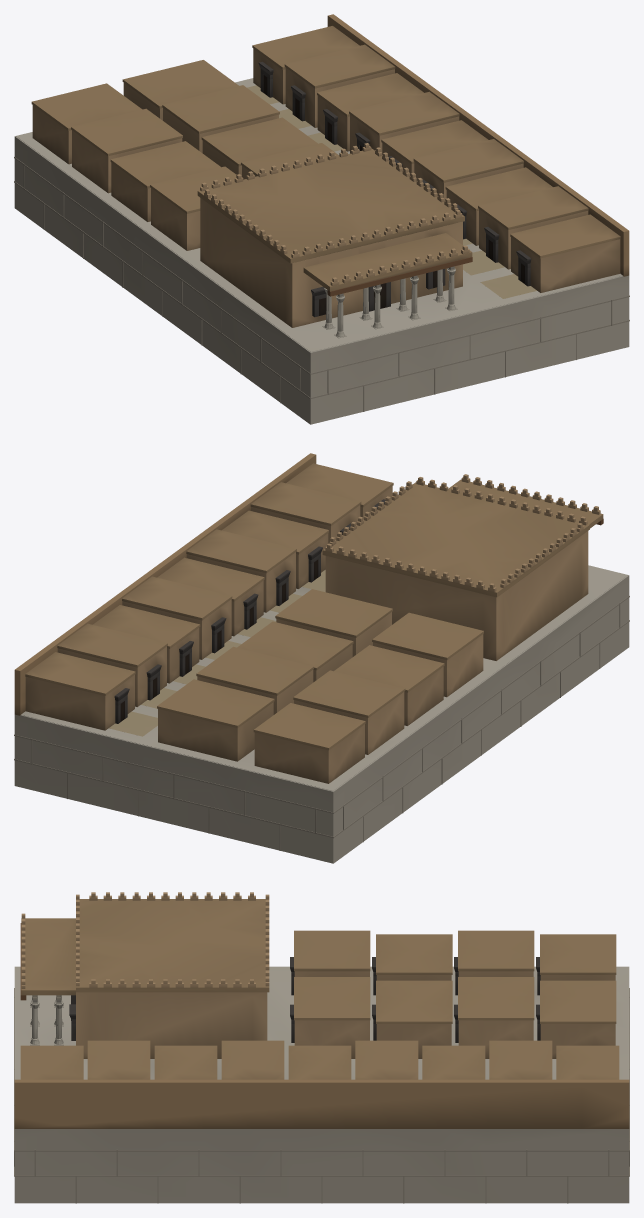
File: harem.glb
The picture shows the model from 3 angles, top to bottom: view 1: azimuth 30°, elevation 25°; view 2: azimuth 150°, elevation 25°; view 3: azimuth 270°, elevation 25°; orthographic projection. The views are drawn at different scales.
Parts seen in each view (by area): view 1: p2_roof, p0_terrace, p1_walls; view 2: p2_roof, p0_terrace, p1_walls; view 3: p2_roof, p0_terrace, p1_walls.
Boxes of the visible parts, <box> form: p2_roof: <box>31,26,620,296</box>; p0_terrace: <box>14,78,629,424</box>; p1_walls: <box>32,14,629,338</box>; p2_roof: <box>25,463,603,750</box>; p0_terrace: <box>14,565,629,863</box>; p1_walls: <box>14,453,588,783</box>; p2_roof: <box>20,892,619,1079</box>; p0_terrace: <box>14,966,629,1203</box>; p1_walls: <box>14,957,629,1128</box>.
Size of the model in its own units: 56.16 by 24.88 by 90.16.
